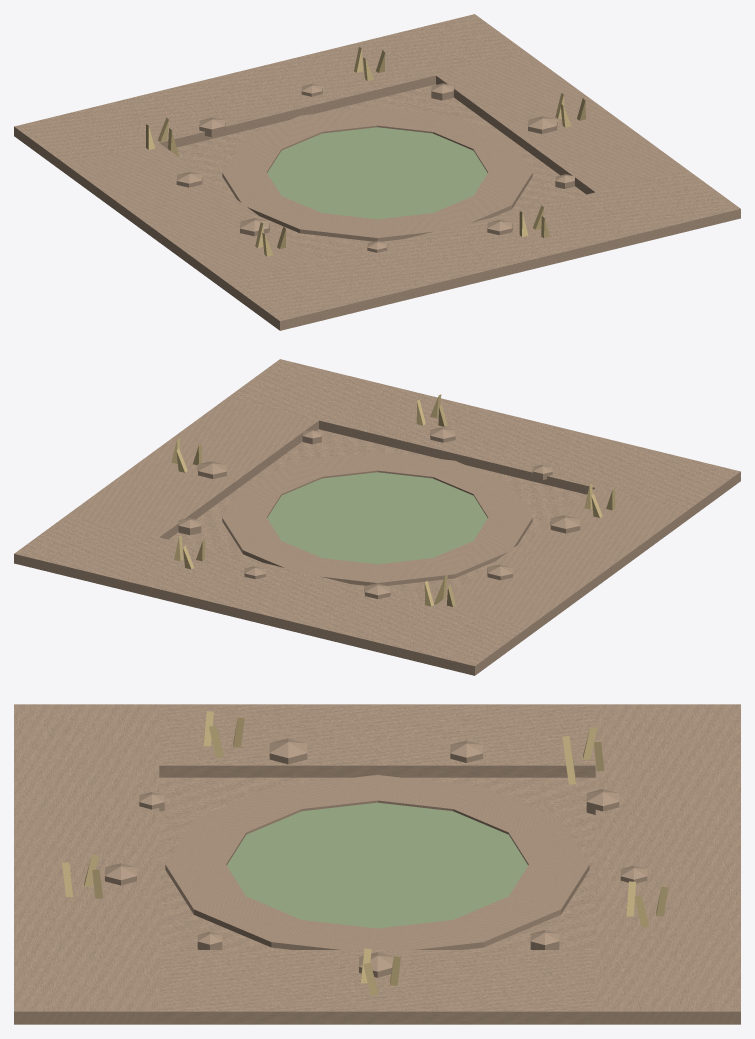
Rendered from safari-camp-and-bush-lodge-water-hole-edge-3835232b__37709.glb.
The picture shows the model from 3 angles, top to bottom: view 1: azimuth 30°, elevation 25°; view 2: azimuth 150°, elevation 25°; view 3: azimuth 270°, elevation 25°; orthographic projection. The views are drawn at different scales.
Visible parts, largest first — view 1: water-hole-edge-earth, water-hole-edge-scrub, water-hole-edge-thatch; view 2: water-hole-edge-earth, water-hole-edge-scrub, water-hole-edge-thatch; view 3: water-hole-edge-earth, water-hole-edge-scrub, water-hole-edge-thatch.
Boxes of the visible parts, <box> form: water-hole-edge-earth: <box>14,14,740,330</box>; water-hole-edge-scrub: <box>267,127,487,219</box>; water-hole-edge-thatch: <box>146,47,585,256</box>; water-hole-edge-earth: <box>14,359,740,675</box>; water-hole-edge-scrub: <box>267,472,487,564</box>; water-hole-edge-thatch: <box>171,394,615,606</box>; water-hole-edge-earth: <box>14,704,740,1024</box>; water-hole-edge-scrub: <box>227,802,527,928</box>; water-hole-edge-thatch: <box>62,711,668,995</box>.
Size of the model in its own units: 6 by 0.4112 by 6.
3 materials, 1 textured.
